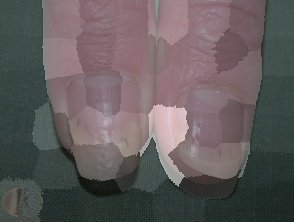Nail_psoriasis: (152, 62, 262, 196), (46, 52, 151, 182)
